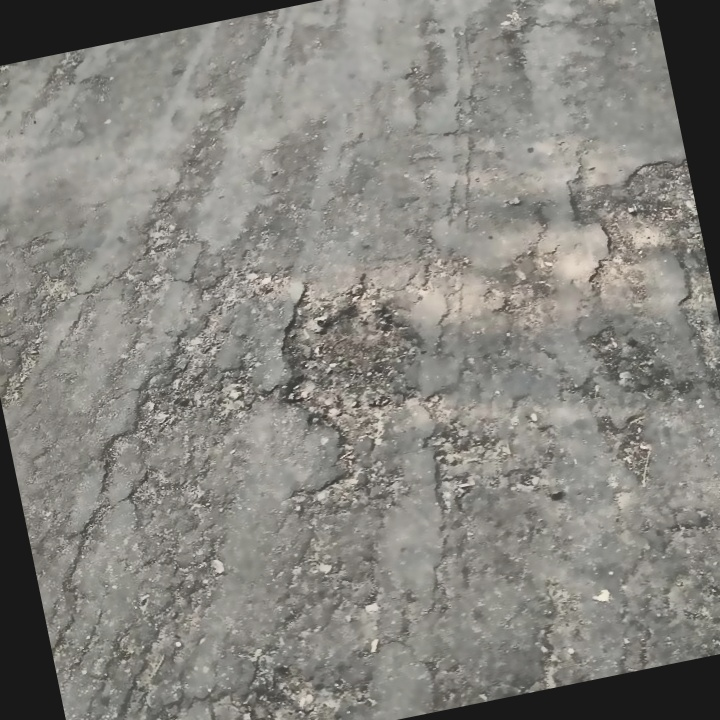pothole: (265, 272, 451, 456), (588, 146, 703, 259), (231, 651, 377, 720)
